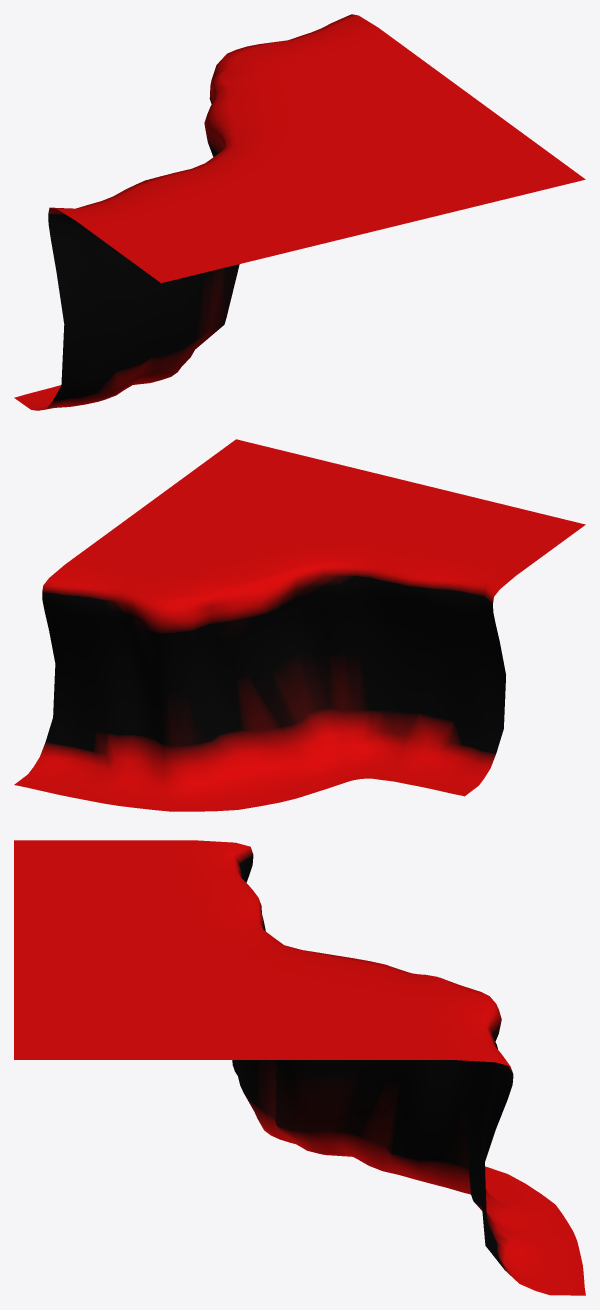
File: GroundCliff05A 1M Foreground.fbx
3 renders of one model, top to bottom at view 1: azimuth 30°, elevation 25°; view 2: azimuth 150°, elevation 25°; view 3: azimuth 270°, elevation 25°, orthographic. The views are drawn at different scales.
Parts seen in each view (by area): view 1: GroundCliff05A 1M Foreground; view 2: GroundCliff05A 1M Foreground; view 3: GroundCliff05A 1M Foreground.
Boxes of the visible parts, left/top/right/bottom form: GroundCliff05A 1M Foreground: left=14, top=14, right=585, bottom=410; GroundCliff05A 1M Foreground: left=14, top=439, right=585, bottom=811; GroundCliff05A 1M Foreground: left=14, top=840, right=585, bottom=1295.
Size of the model in its own units: 2 by 1 by 2.2.
